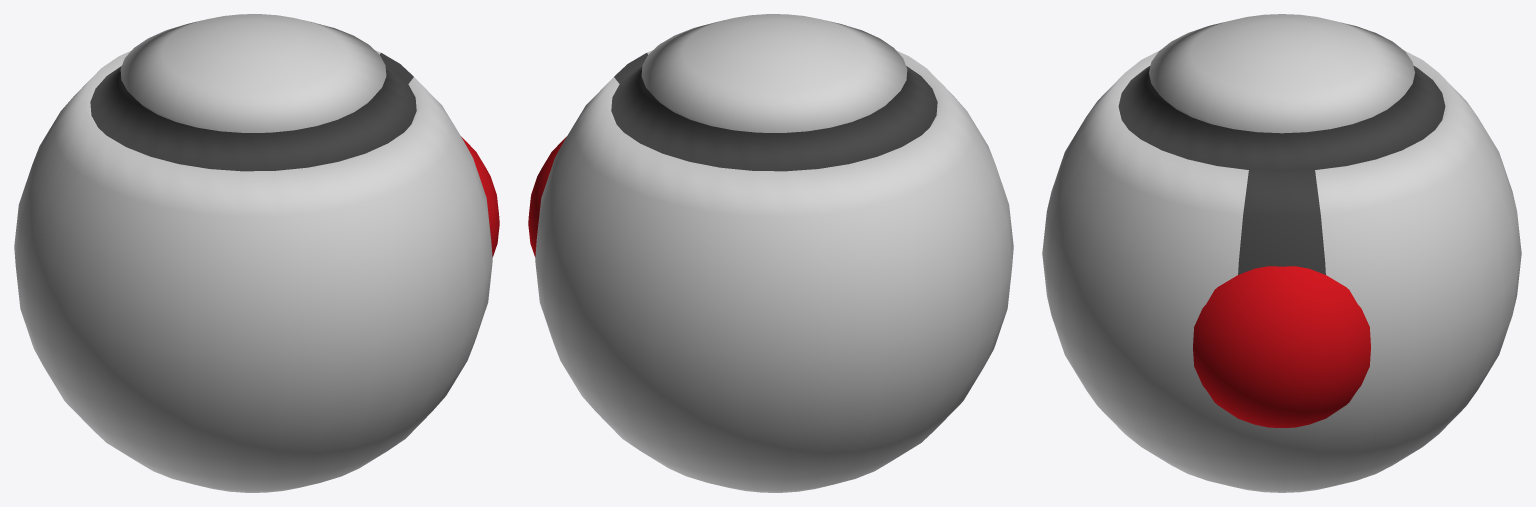
The model's file is dron.fbx.
The picture shows the model from 3 angles, left to right: view 1: azimuth 30°, elevation 25°; view 2: azimuth 150°, elevation 25°; view 3: azimuth 270°, elevation 25°; orthographic projection.
Visible parts, largest first — view 1: Sphere, Sphere.001; view 2: Sphere, Sphere.001; view 3: Sphere, Sphere.001.
Part boxes in pixels (x1,y1,x2,y2): Sphere: (14, 14, 492, 492); Sphere.001: (461, 136, 499, 257); Sphere: (535, 14, 1013, 492); Sphere.001: (528, 136, 566, 257); Sphere: (1042, 14, 1521, 492); Sphere.001: (1193, 266, 1370, 427).
Size of the model in its own units: 211 by 200 by 200.
